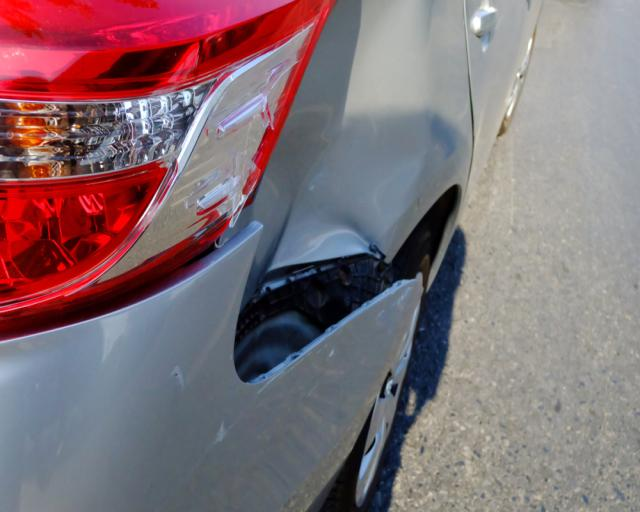dent: (262, 109, 459, 258)
